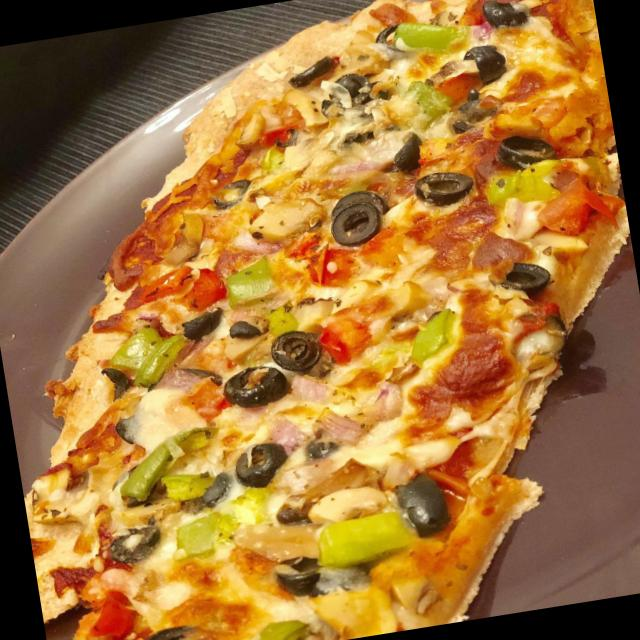black_olives: (320, 185, 393, 251), (394, 468, 452, 540), (410, 161, 480, 210), (216, 362, 282, 412), (486, 254, 552, 303), (234, 434, 288, 492), (272, 324, 324, 381), (495, 129, 558, 174), (106, 521, 166, 568), (320, 68, 375, 116), (282, 52, 344, 92), (177, 303, 231, 348), (461, 41, 510, 86), (282, 548, 328, 592), (480, 0, 526, 30), (144, 618, 200, 640), (392, 132, 422, 170)
peppers: (102, 420, 220, 518), (104, 320, 184, 392), (320, 510, 407, 574), (401, 304, 464, 372), (161, 504, 226, 564), (220, 250, 283, 302), (397, 15, 466, 62), (244, 615, 309, 640)
pizza: (24, 0, 631, 640)
